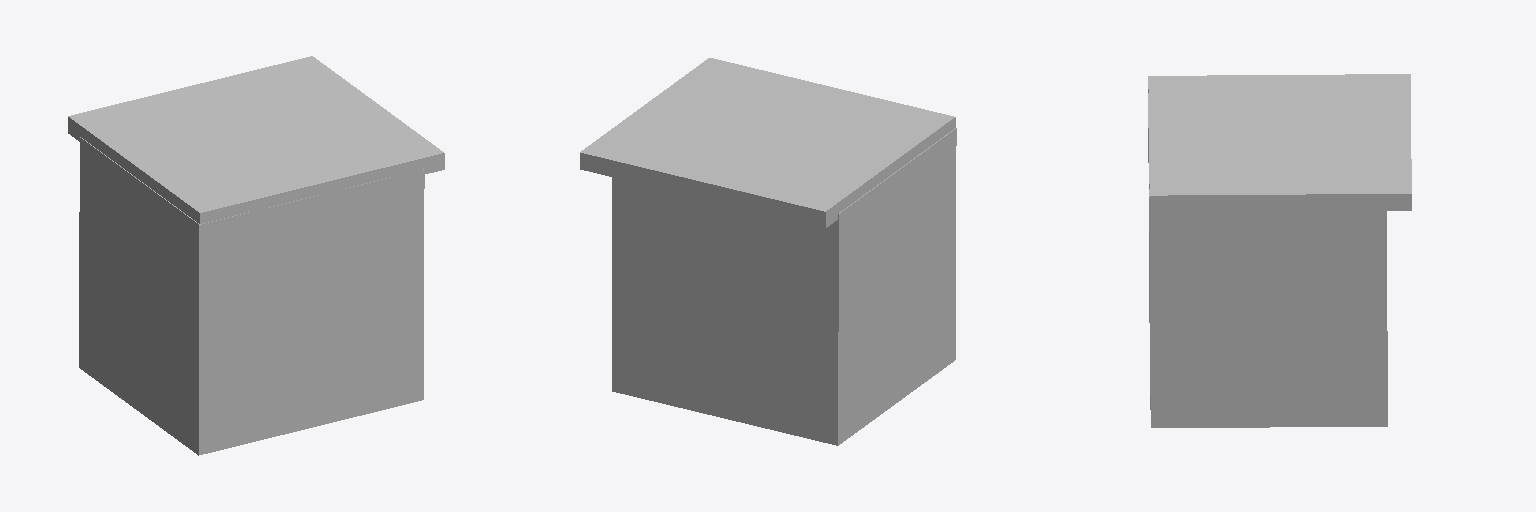
File: FM_counter_left.obj
The picture shows the model from 3 angles: view 1: azimuth 30°, elevation 25°; view 2: azimuth 150°, elevation 25°; view 3: azimuth 270°, elevation 25°; orthographic projection.
Parts seen in each view (by area): view 1: Cube.004, Cube.006; view 2: Cube.004, Cube.006; view 3: Cube.004, Cube.006.
Boxes of the visible parts, x1=… form: Cube.004: x1=79, y1=137, x2=424, y2=455; Cube.006: x1=68, y1=56, x2=444, y2=223; Cube.004: x1=612, y1=128, x2=956, y2=445; Cube.006: x1=580, y1=58, x2=955, y2=228; Cube.004: x1=1148, y1=93, x2=1387, y2=427; Cube.006: x1=1148, y1=74, x2=1411, y2=212.
Size of the model in its own units: 1.08 by 1.02 by 1.